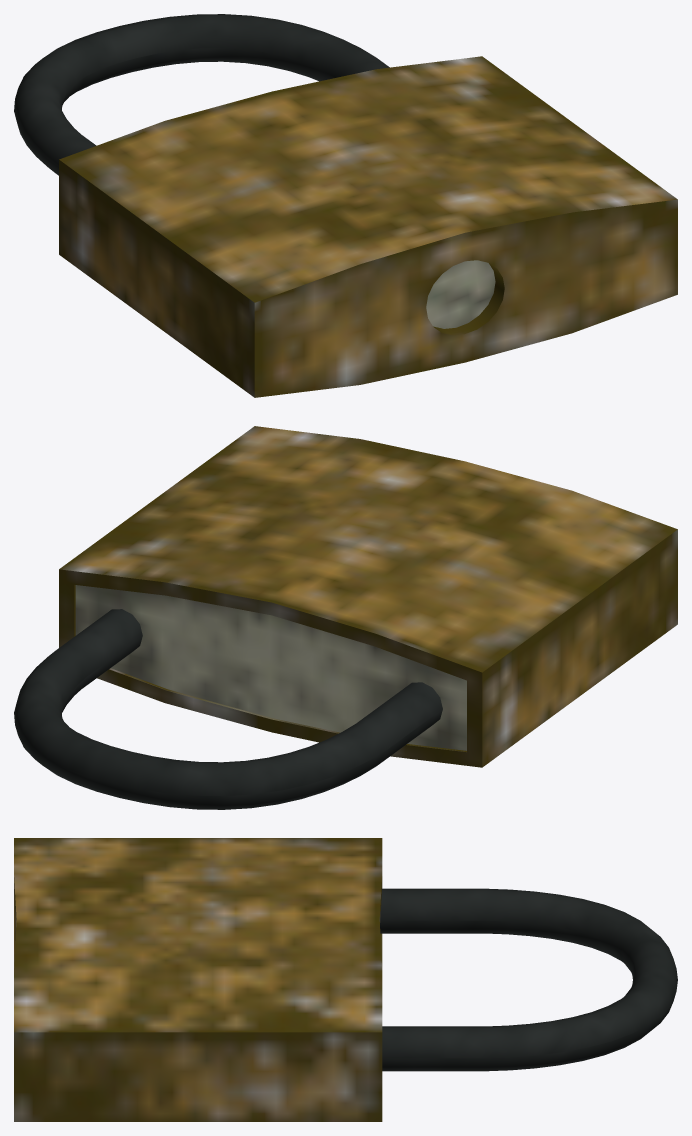
The model's file is padlock.glb.
3 renders of one model, top to bottom at view 1: azimuth 30°, elevation 25°; view 2: azimuth 150°, elevation 25°; view 3: azimuth 270°, elevation 25°, orthographic. The views are drawn at different scales.
Visible parts, largest first — view 1: defaultMaterial, defaultMaterial.001; view 2: defaultMaterial, defaultMaterial.001; view 3: defaultMaterial, defaultMaterial.001.
Part boxes in pixels (bbox=[...]): defaultMaterial: bbox=[59, 56, 677, 397]; defaultMaterial.001: bbox=[14, 14, 389, 175]; defaultMaterial: bbox=[59, 426, 677, 767]; defaultMaterial.001: bbox=[14, 609, 442, 809]; defaultMaterial: bbox=[14, 838, 382, 1121]; defaultMaterial.001: bbox=[380, 888, 677, 1071].
Size of the model in its own units: 0.0787 by 0.0231 by 0.1137.
2 materials, 2 textured.
